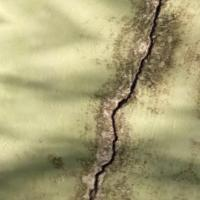crack: (74, 1, 171, 199)
